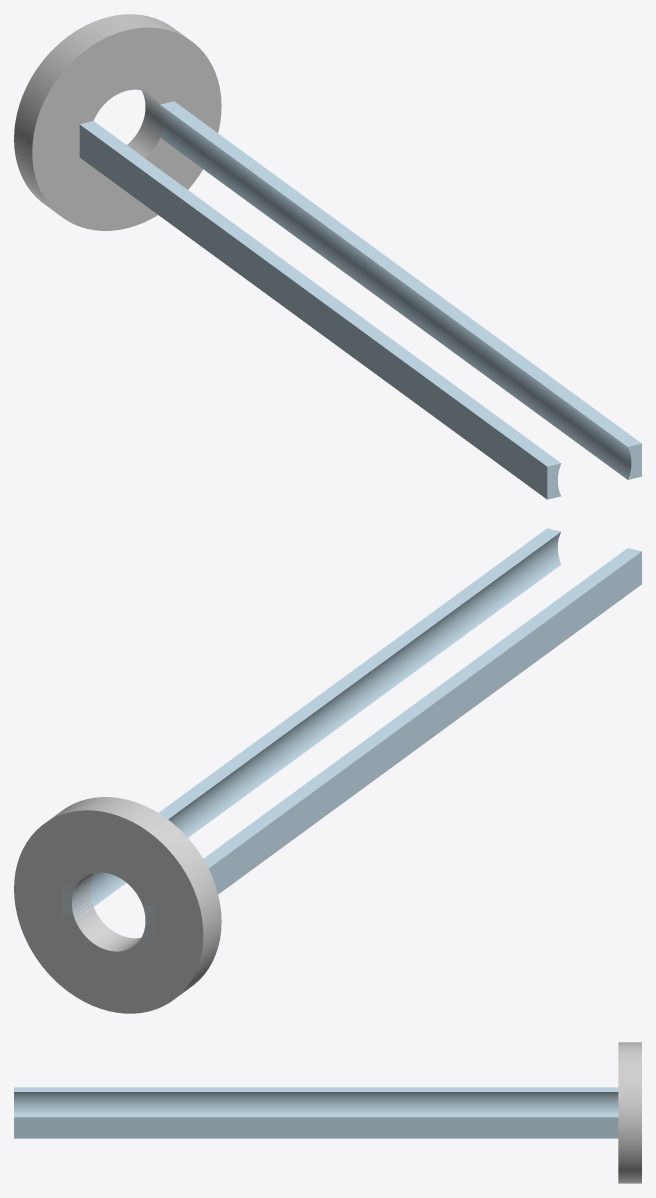
3 views of the same model, one above another, from view 1: azimuth 30°, elevation 25°; view 2: azimuth 150°, elevation 25°; view 3: azimuth 270°, elevation 25° (orthographic). The views are drawn at different scales.
Visible parts, largest first — view 1: Part 1, Part 2, Part 3; view 2: Part 1, Part 3, Part 2; view 3: Part 2, Part 3, Part 1.
Boxes of the visible parts, x1,y1,x2,y2 form: Part 1: (14,14,221,230); Part 2: (142,92,641,479); Part 3: (79,121,561,499); Part 1: (14,797,221,1013); Part 3: (142,548,641,939); Part 2: (61,528,561,919); Part 2: (14,1112,618,1138); Part 3: (14,1087,618,1112); Part 1: (618,1042,641,1183).
Bounding box in the file's own units: 0.036 × 0.036 × 0.16.
